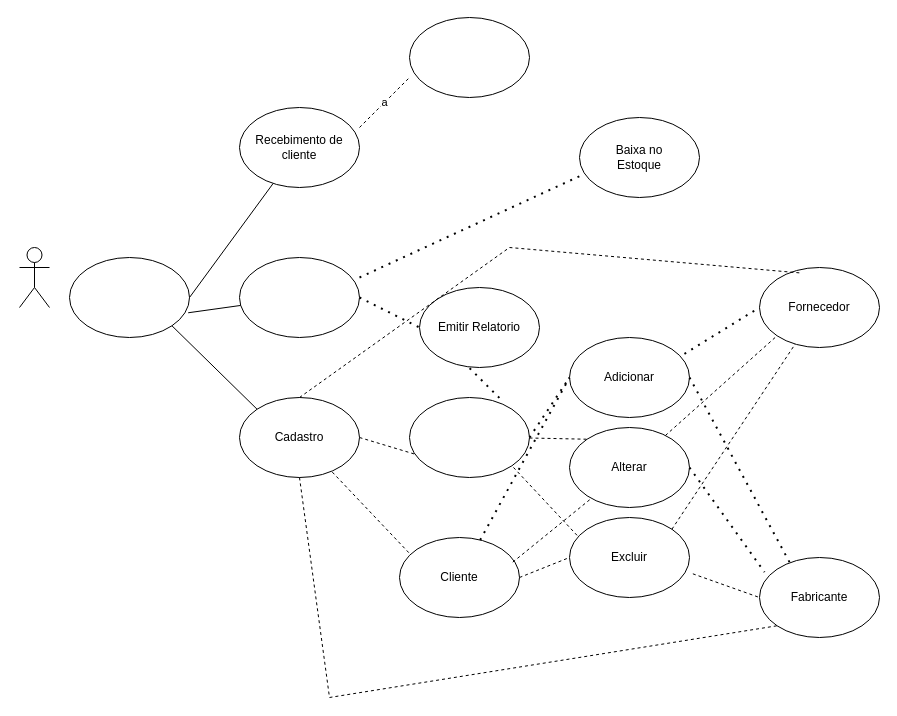
This 897x716 diagram has some shape labels left out. Each missing label, with the centre of its shape:
"Admin" belongs at (x=34, y=277).
"Autenticar Funcionario" belongs at (x=129, y=297).
"Historico de clientes" belongs at (x=469, y=57).
"Produto" belongs at (x=469, y=437).
"Vendas" belongs at (x=299, y=297).
